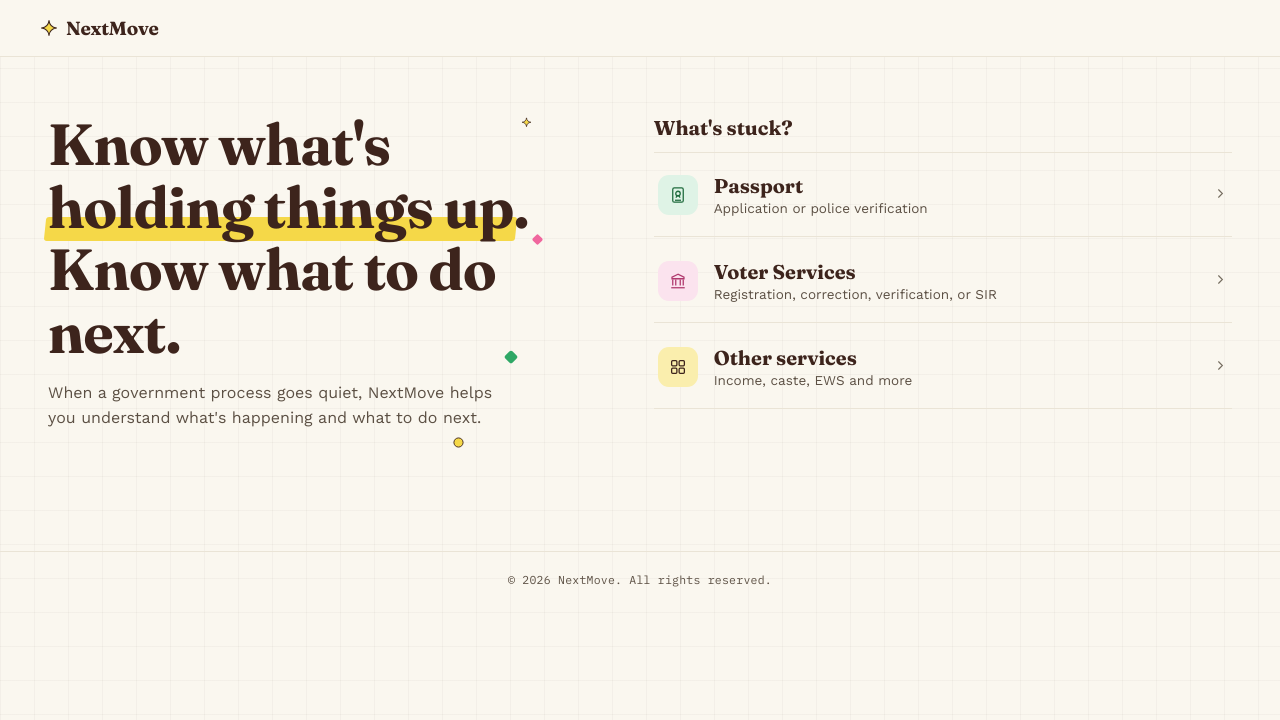
Test: Passport, end to end — the flow is real, not just unit-tested components › AC-9 end to end: Restart asks first, Cancel keeps everything, Yes returns Home empty
This screenshot has width=1280, height=720.
Click the button "Passport Application or police verification" at point(678, 194), box [654,153,1232,237]
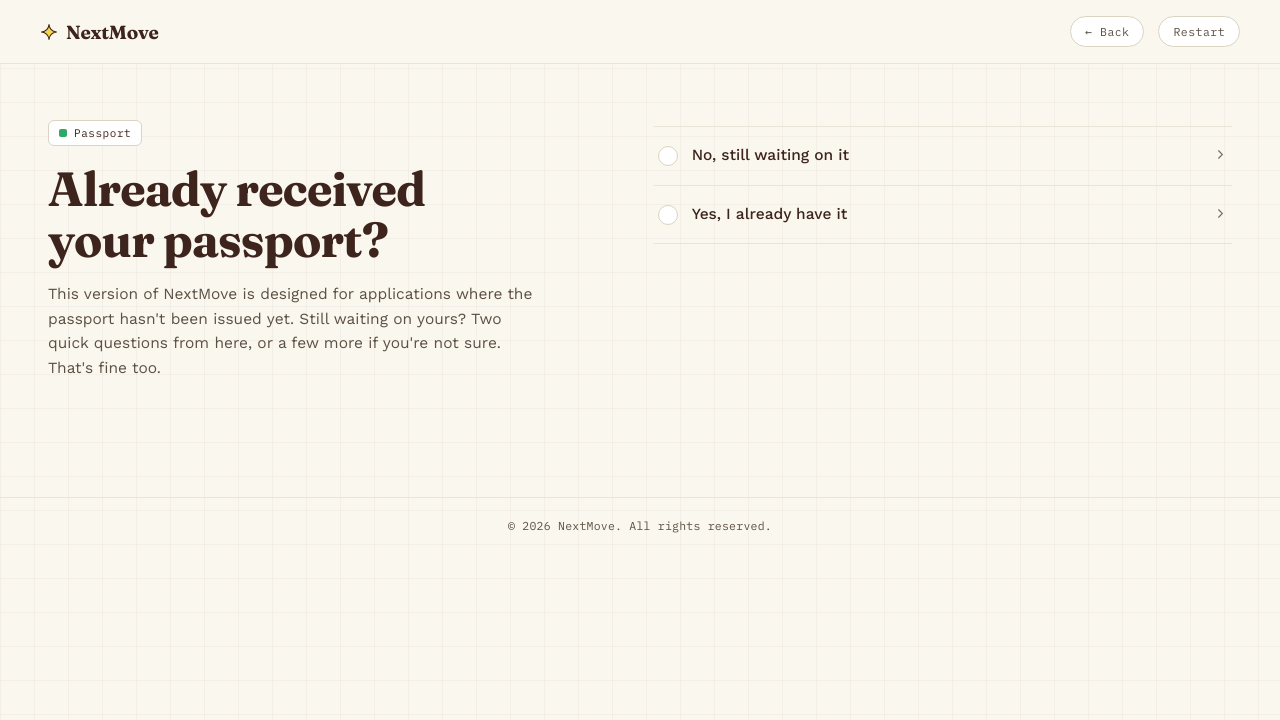
Click the button "No, still waiting on it" at point(770, 155), box [654,127,1232,186]
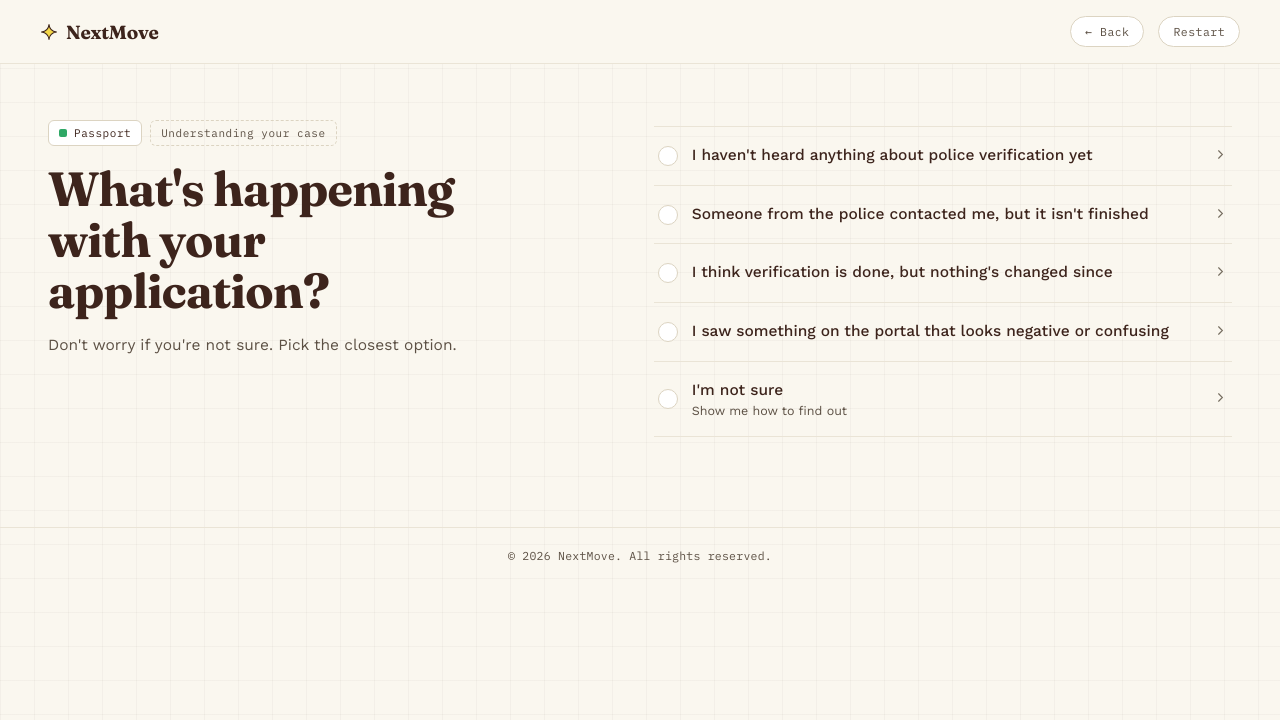
Result: the heading "What's happening with your application?" is shown at [48,159,454,320]
Note: Restart asks first — it does not clear immediately.
Click the button "Restart" at point(1199, 32), box [1158,16,1240,47]
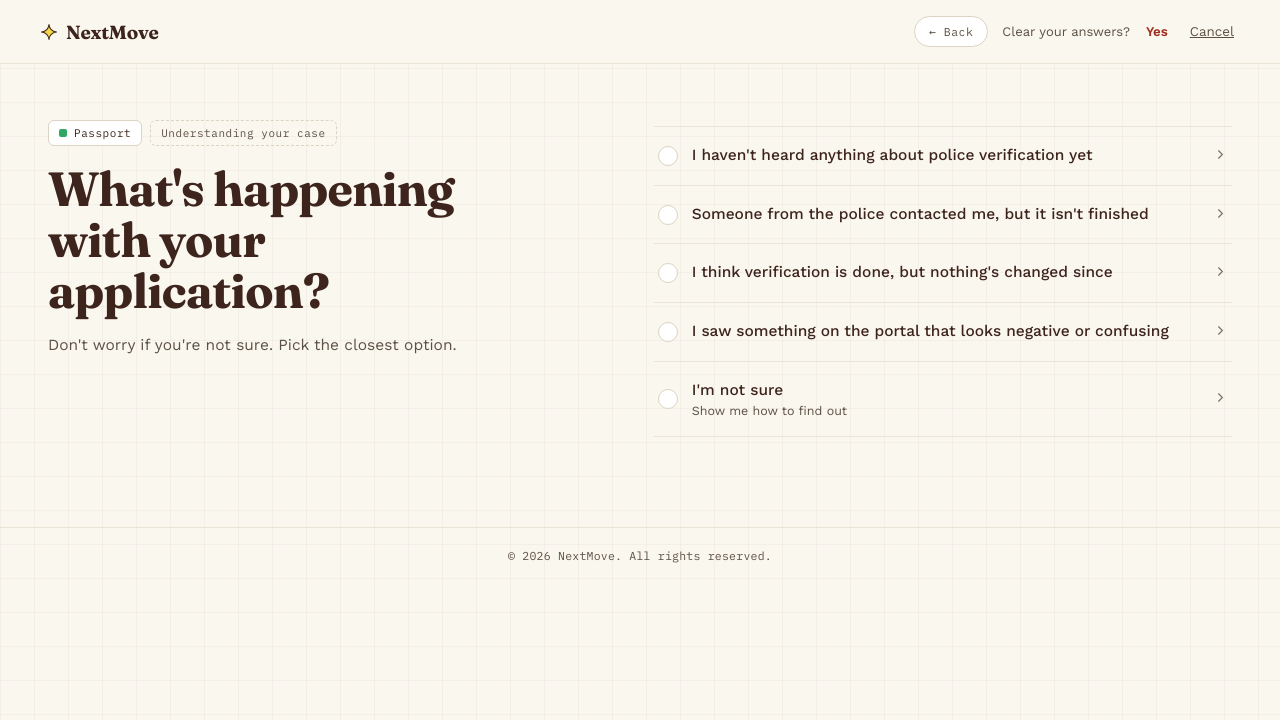
Result: the heading "What's happening with your application?" is shown at [48,159,454,320]
Result: the text "Clear your answers?" is shown at [1002,24,1130,39]
Note: Cancel keeps everything — same screen, confirm gone.
Click the button "Cancel" at point(1212, 32), box [1184,23,1240,40]
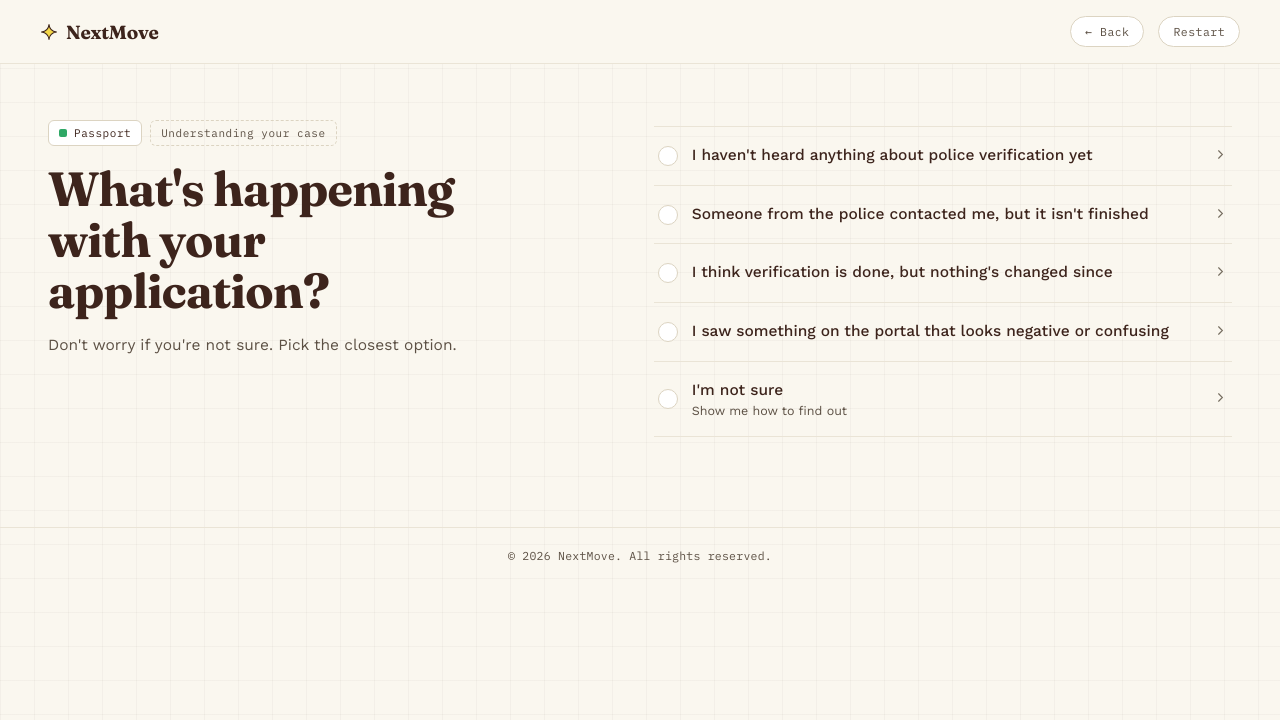
Result: the heading "What's happening with your application?" is shown at [48,159,454,320]
Result: the text "Clear your answers?" is gone
Note: Yes returns Home, empty: no Back/Restart, no stale answers.
Click the button "Restart" at point(1199, 32), box [1158,16,1240,47]
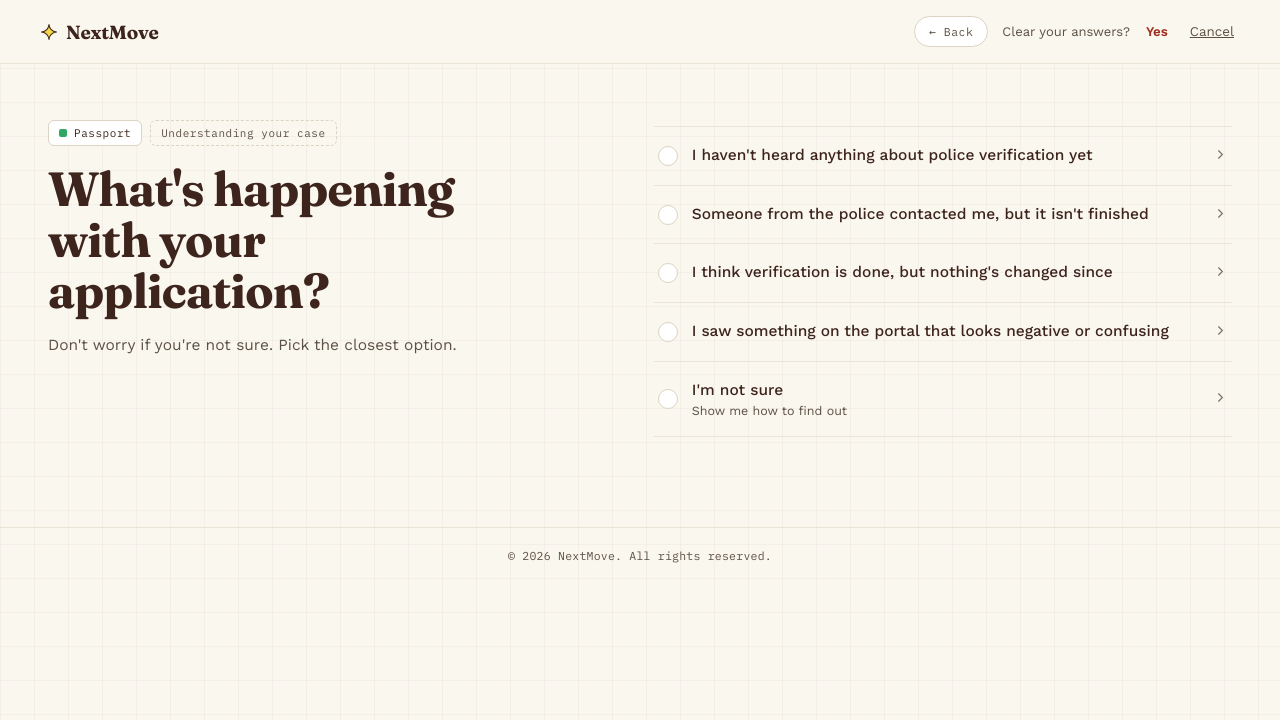
Click the button "Yes" at point(1157, 32), box [1140,23,1174,40]
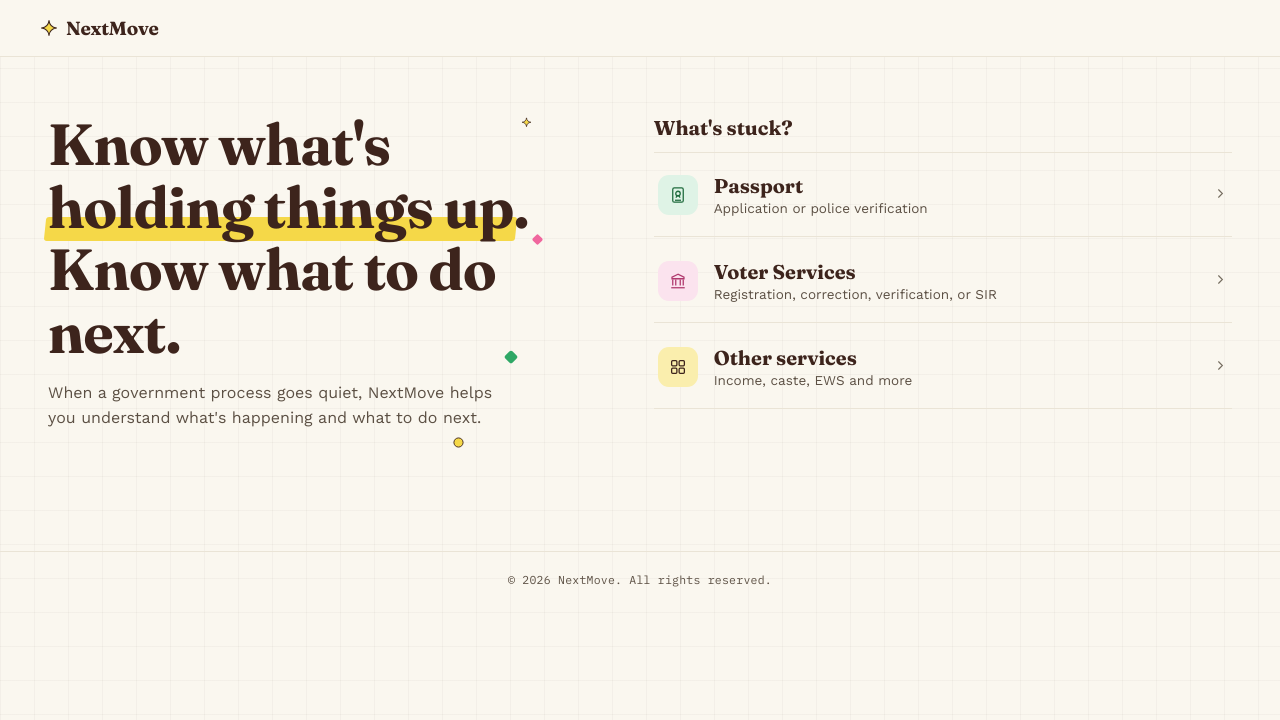
Expected: the button "Restart" is not shown
Result: the heading shows "Know what's" at [48,108,391,180]
Result: the button "← Back" is gone
